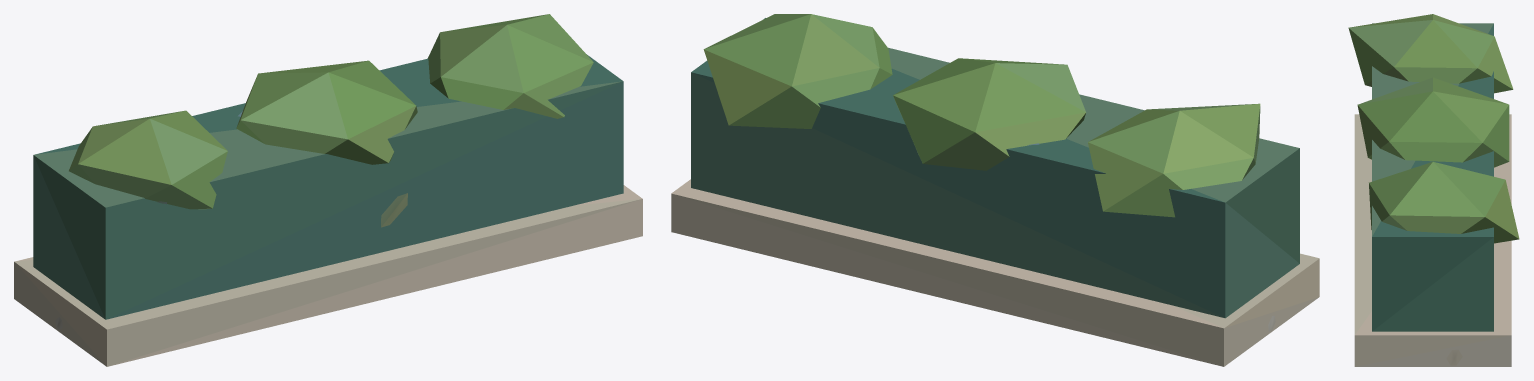
File: HK_Hedge.lod.glb
The picture shows the model from 3 angles, left to right: view 1: azimuth 30°, elevation 25°; view 2: azimuth 150°, elevation 25°; view 3: azimuth 270°, elevation 25°; orthographic projection. The views are drawn at different scales.
Visible parts, largest first — view 1: HK_Hedge; view 2: HK_Hedge; view 3: HK_Hedge.
Part boxes in pixels (x1=…): HK_Hedge: x1=14, y1=14, x2=642, y2=366; HK_Hedge: x1=671, y1=14, x2=1319, y2=366; HK_Hedge: x1=1348, y1=14, x2=1519, y2=366.
Size of the model in its own units: 3.01 by 1.07 by 0.9814.
